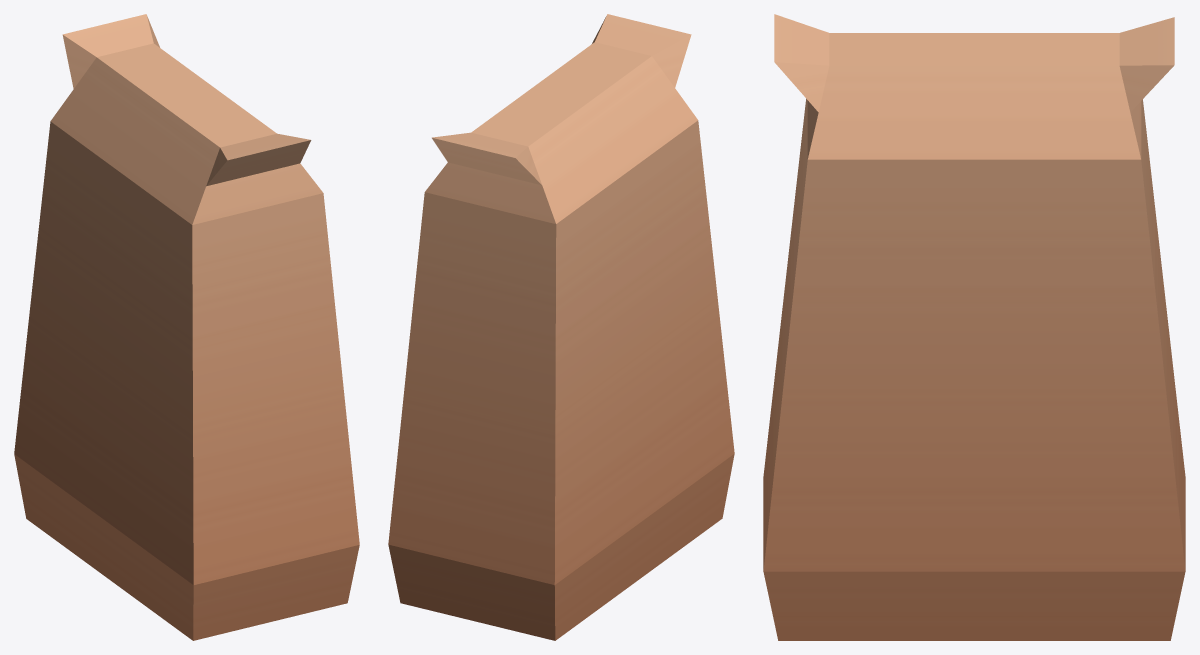
Rendered from PaperBag.obj.
3 views of the same model, side by side, from view 1: azimuth 30°, elevation 25°; view 2: azimuth 150°, elevation 25°; view 3: azimuth 270°, elevation 25° (orthographic). The views are drawn at different scales.
Visible parts, largest first — view 1: bag; view 2: bag; view 3: bag.
Boxes of the visible parts, x1=… form: bag: x1=14, y1=14, x2=359, y2=640; bag: x1=388, y1=14, x2=734, y2=640; bag: x1=763, y1=14, x2=1185, y2=640.
Bounding box in the file's own units: 0.1321 × 0.3599 × 0.2471.
Materials: 1 (1 with a texture image).
